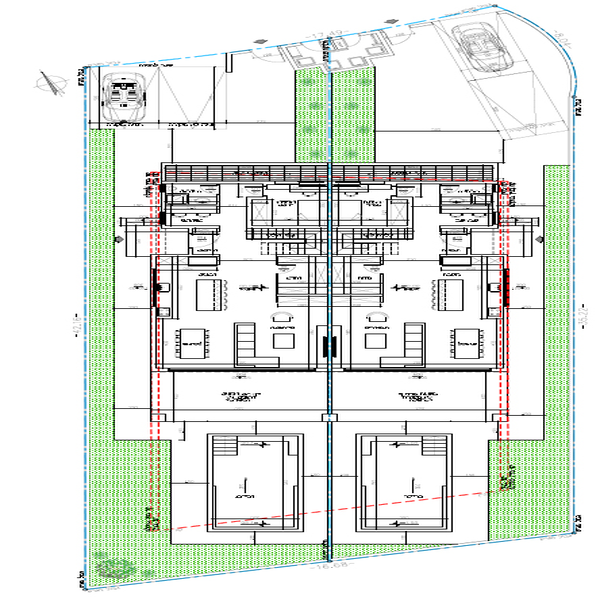wall: (324, 77, 336, 564), (175, 356, 323, 381), (342, 433, 377, 532), (336, 357, 511, 374), (291, 427, 317, 537), (197, 514, 307, 538), (200, 423, 224, 532), (351, 425, 451, 448), (203, 428, 307, 448), (442, 429, 457, 533), (355, 522, 449, 536), (146, 305, 167, 365)
